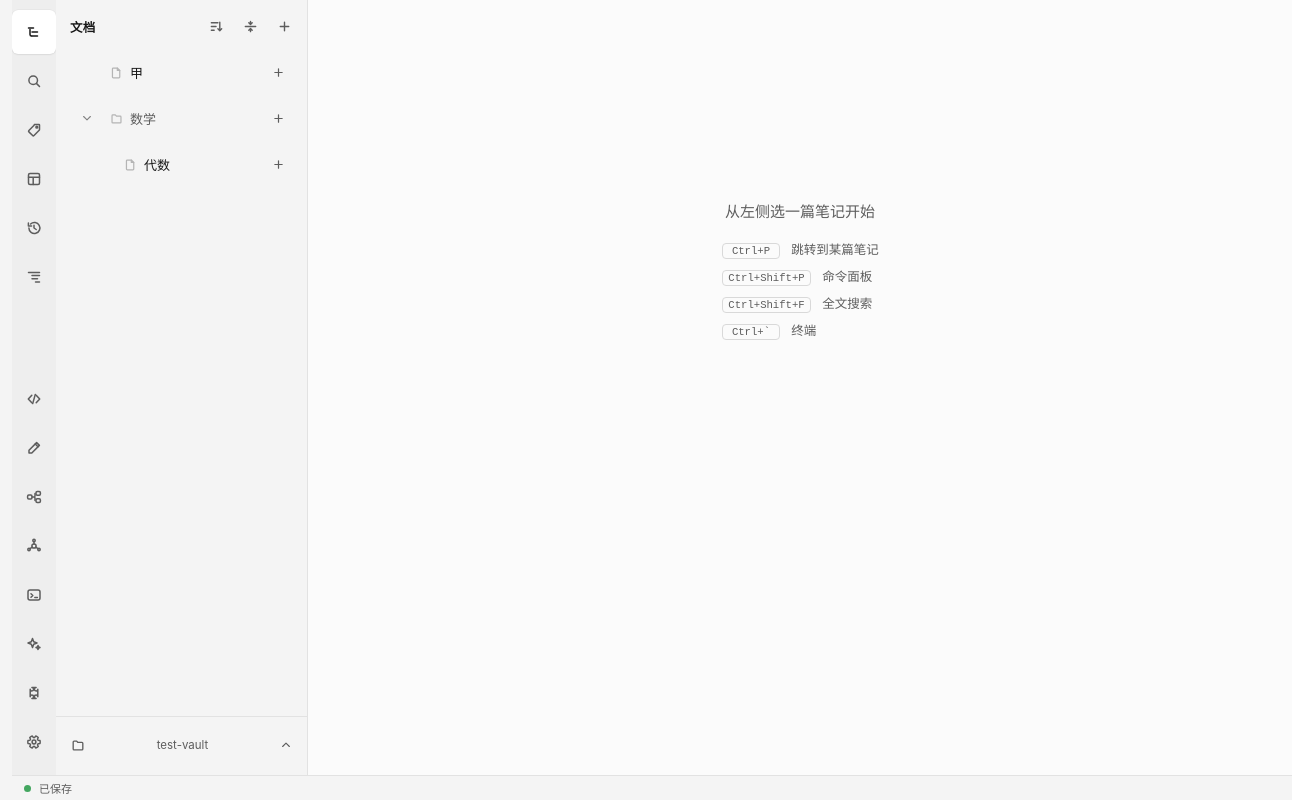
Test: 纯文件夹的树上操作 › 靠近窗口右下角打开的长菜单会完整收进视口
Right-click the element with class "tree-row" showing "甲" at (200, 72), box x1=106 y1=50 x2=294 y2=94
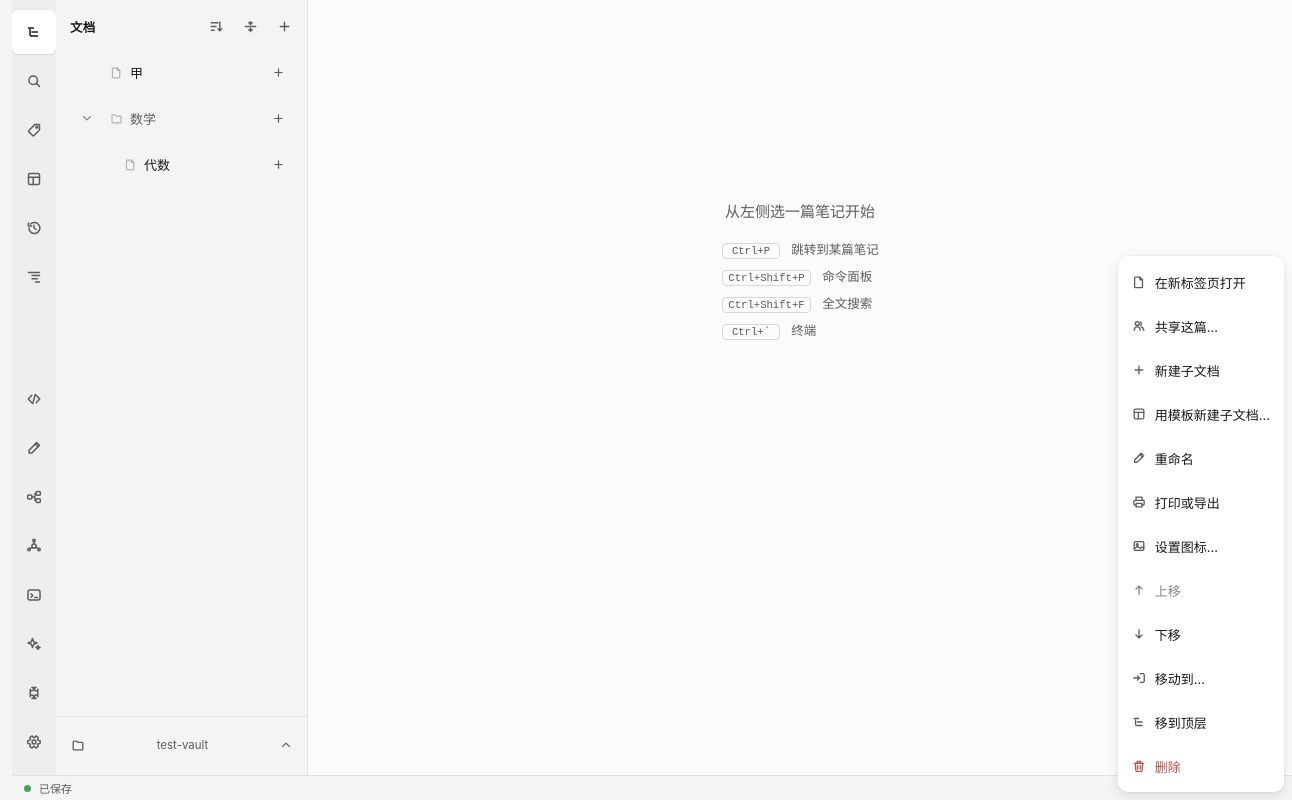
Result: the button "删除" is shown at x1=1122 y1=744 x2=1280 y2=788
